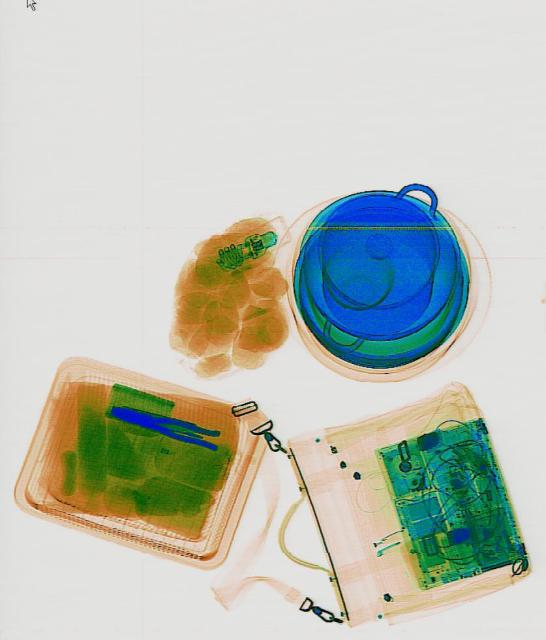Pliers: (107, 394, 222, 454)
